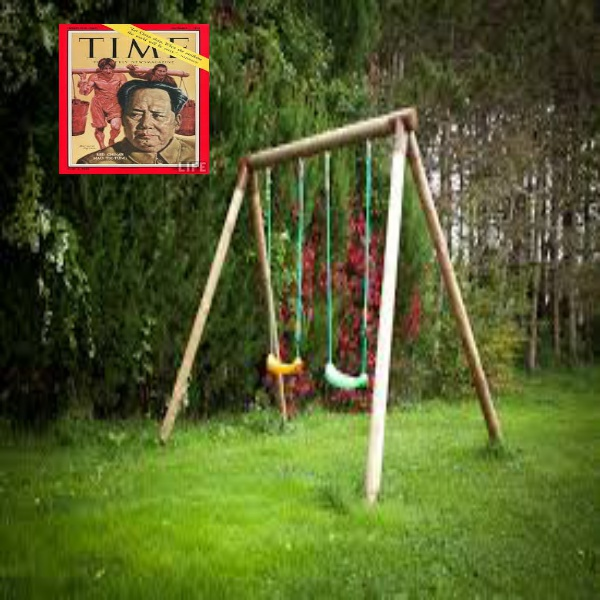time_cover: (57, 18, 213, 178)
